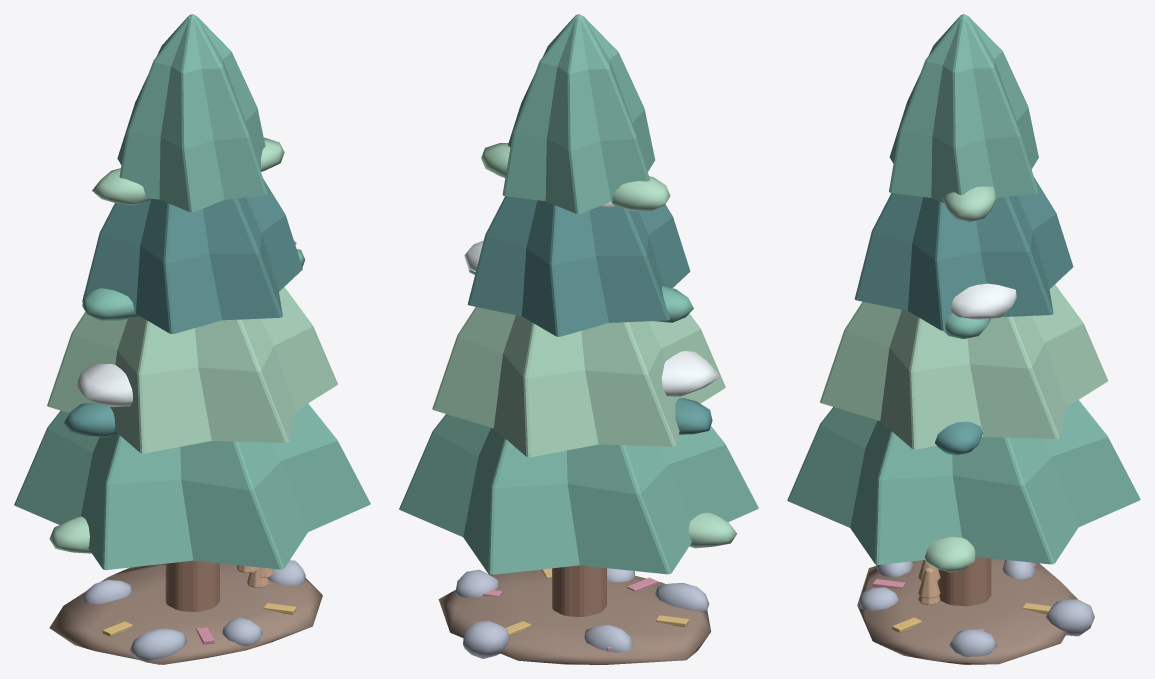
File: northern_pine_b.glb
3 views of the same model, side by side, from view 1: azimuth 30°, elevation 25°; view 2: azimuth 150°, elevation 25°; view 3: azimuth 270°, elevation 25° (orthographic).
Visible parts, largest first — view 1: northern_pine_b.001; view 2: northern_pine_b.001; view 3: northern_pine_b.001.
Boxes of the visible parts, x1,y1,x2,y2 form: northern_pine_b.001: (14,14,370,664); northern_pine_b.001: (399,14,758,664); northern_pine_b.001: (787,14,1140,664).
Bounding box in the file's own units: 6.26 × 12.51 × 6.65.
